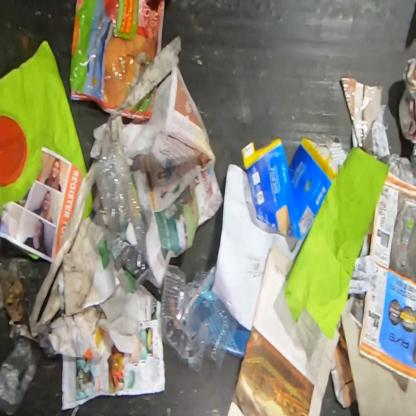cardboard: (240, 135, 341, 241), (341, 298, 415, 415), (330, 320, 358, 409)
rigid_plastic: (160, 264, 239, 375), (0, 114, 28, 188)
soft_plastic: (68, 0, 166, 115), (96, 151, 150, 278), (0, 336, 43, 416), (340, 76, 384, 149), (119, 84, 158, 124)
